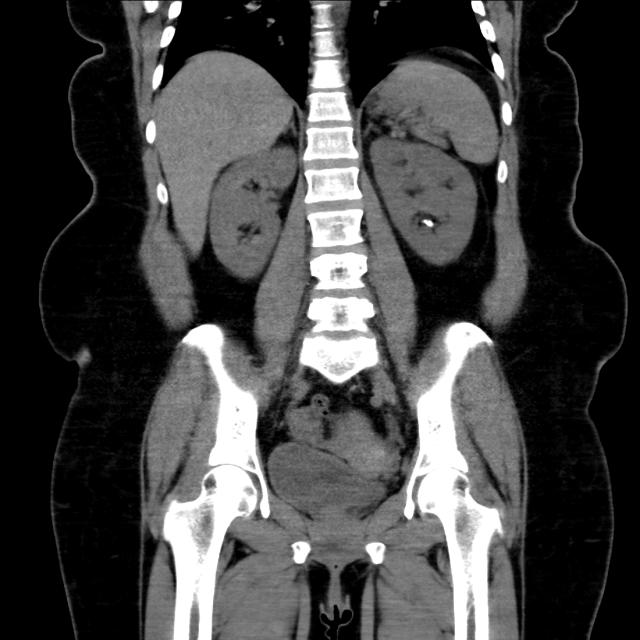kidneystone: (421, 219, 434, 227)
